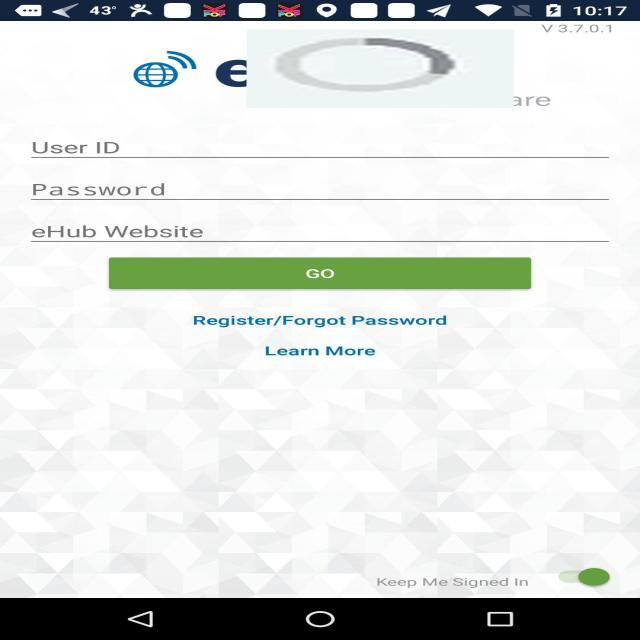misdirection: (246, 29, 514, 108)
